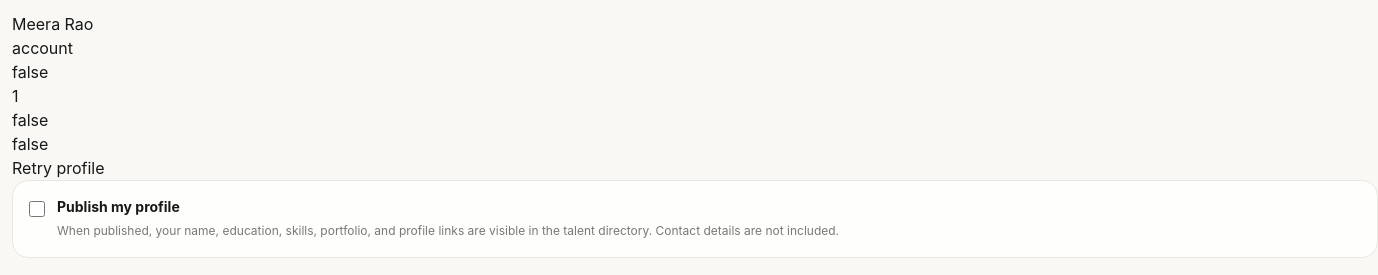
StudentProfileProvider › persists the Publish my profile toggle through the repository
Click the checkbox labelled "Publish my profile". click: (37, 209)
box: [29, 201, 45, 217]
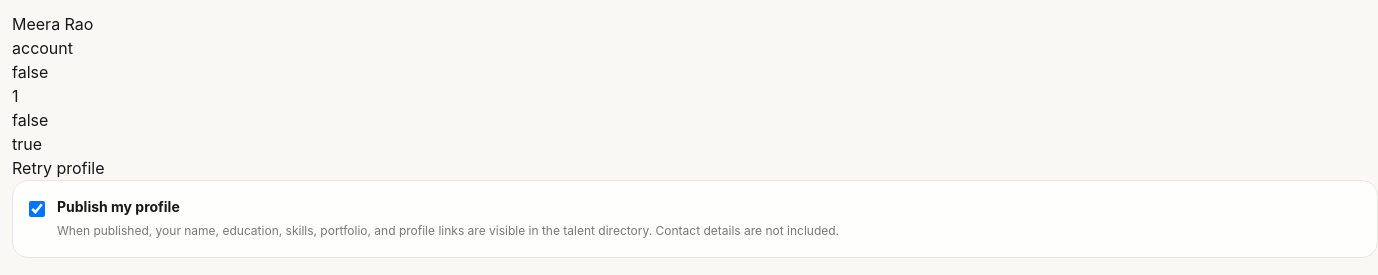
Result: the text with test id "public" reads "true" at [12, 134, 42, 154]
